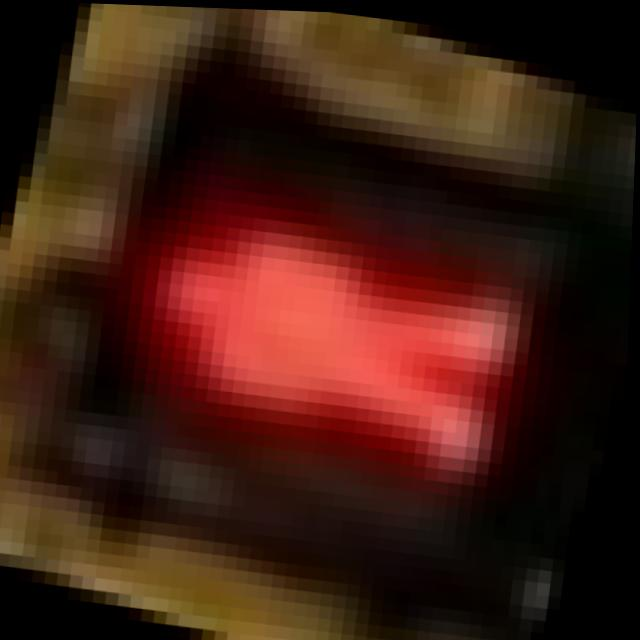red_light: (56, 71, 595, 553)
